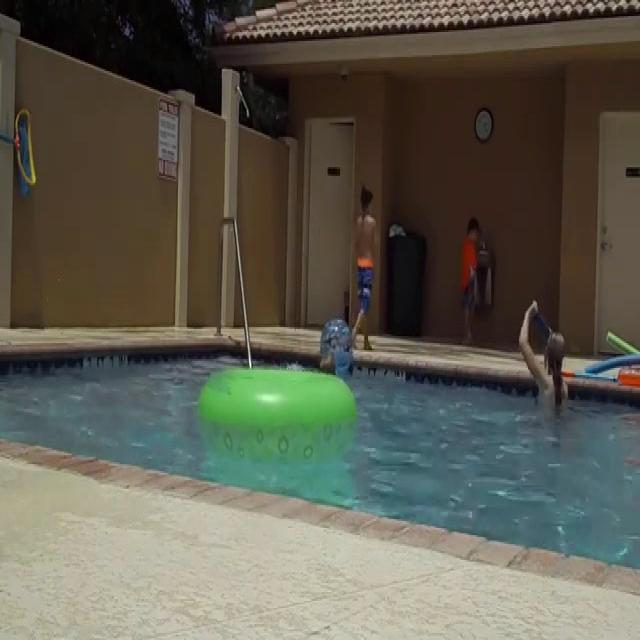adult: (521, 297, 567, 428), (461, 216, 481, 344)
child: (349, 186, 378, 350)
